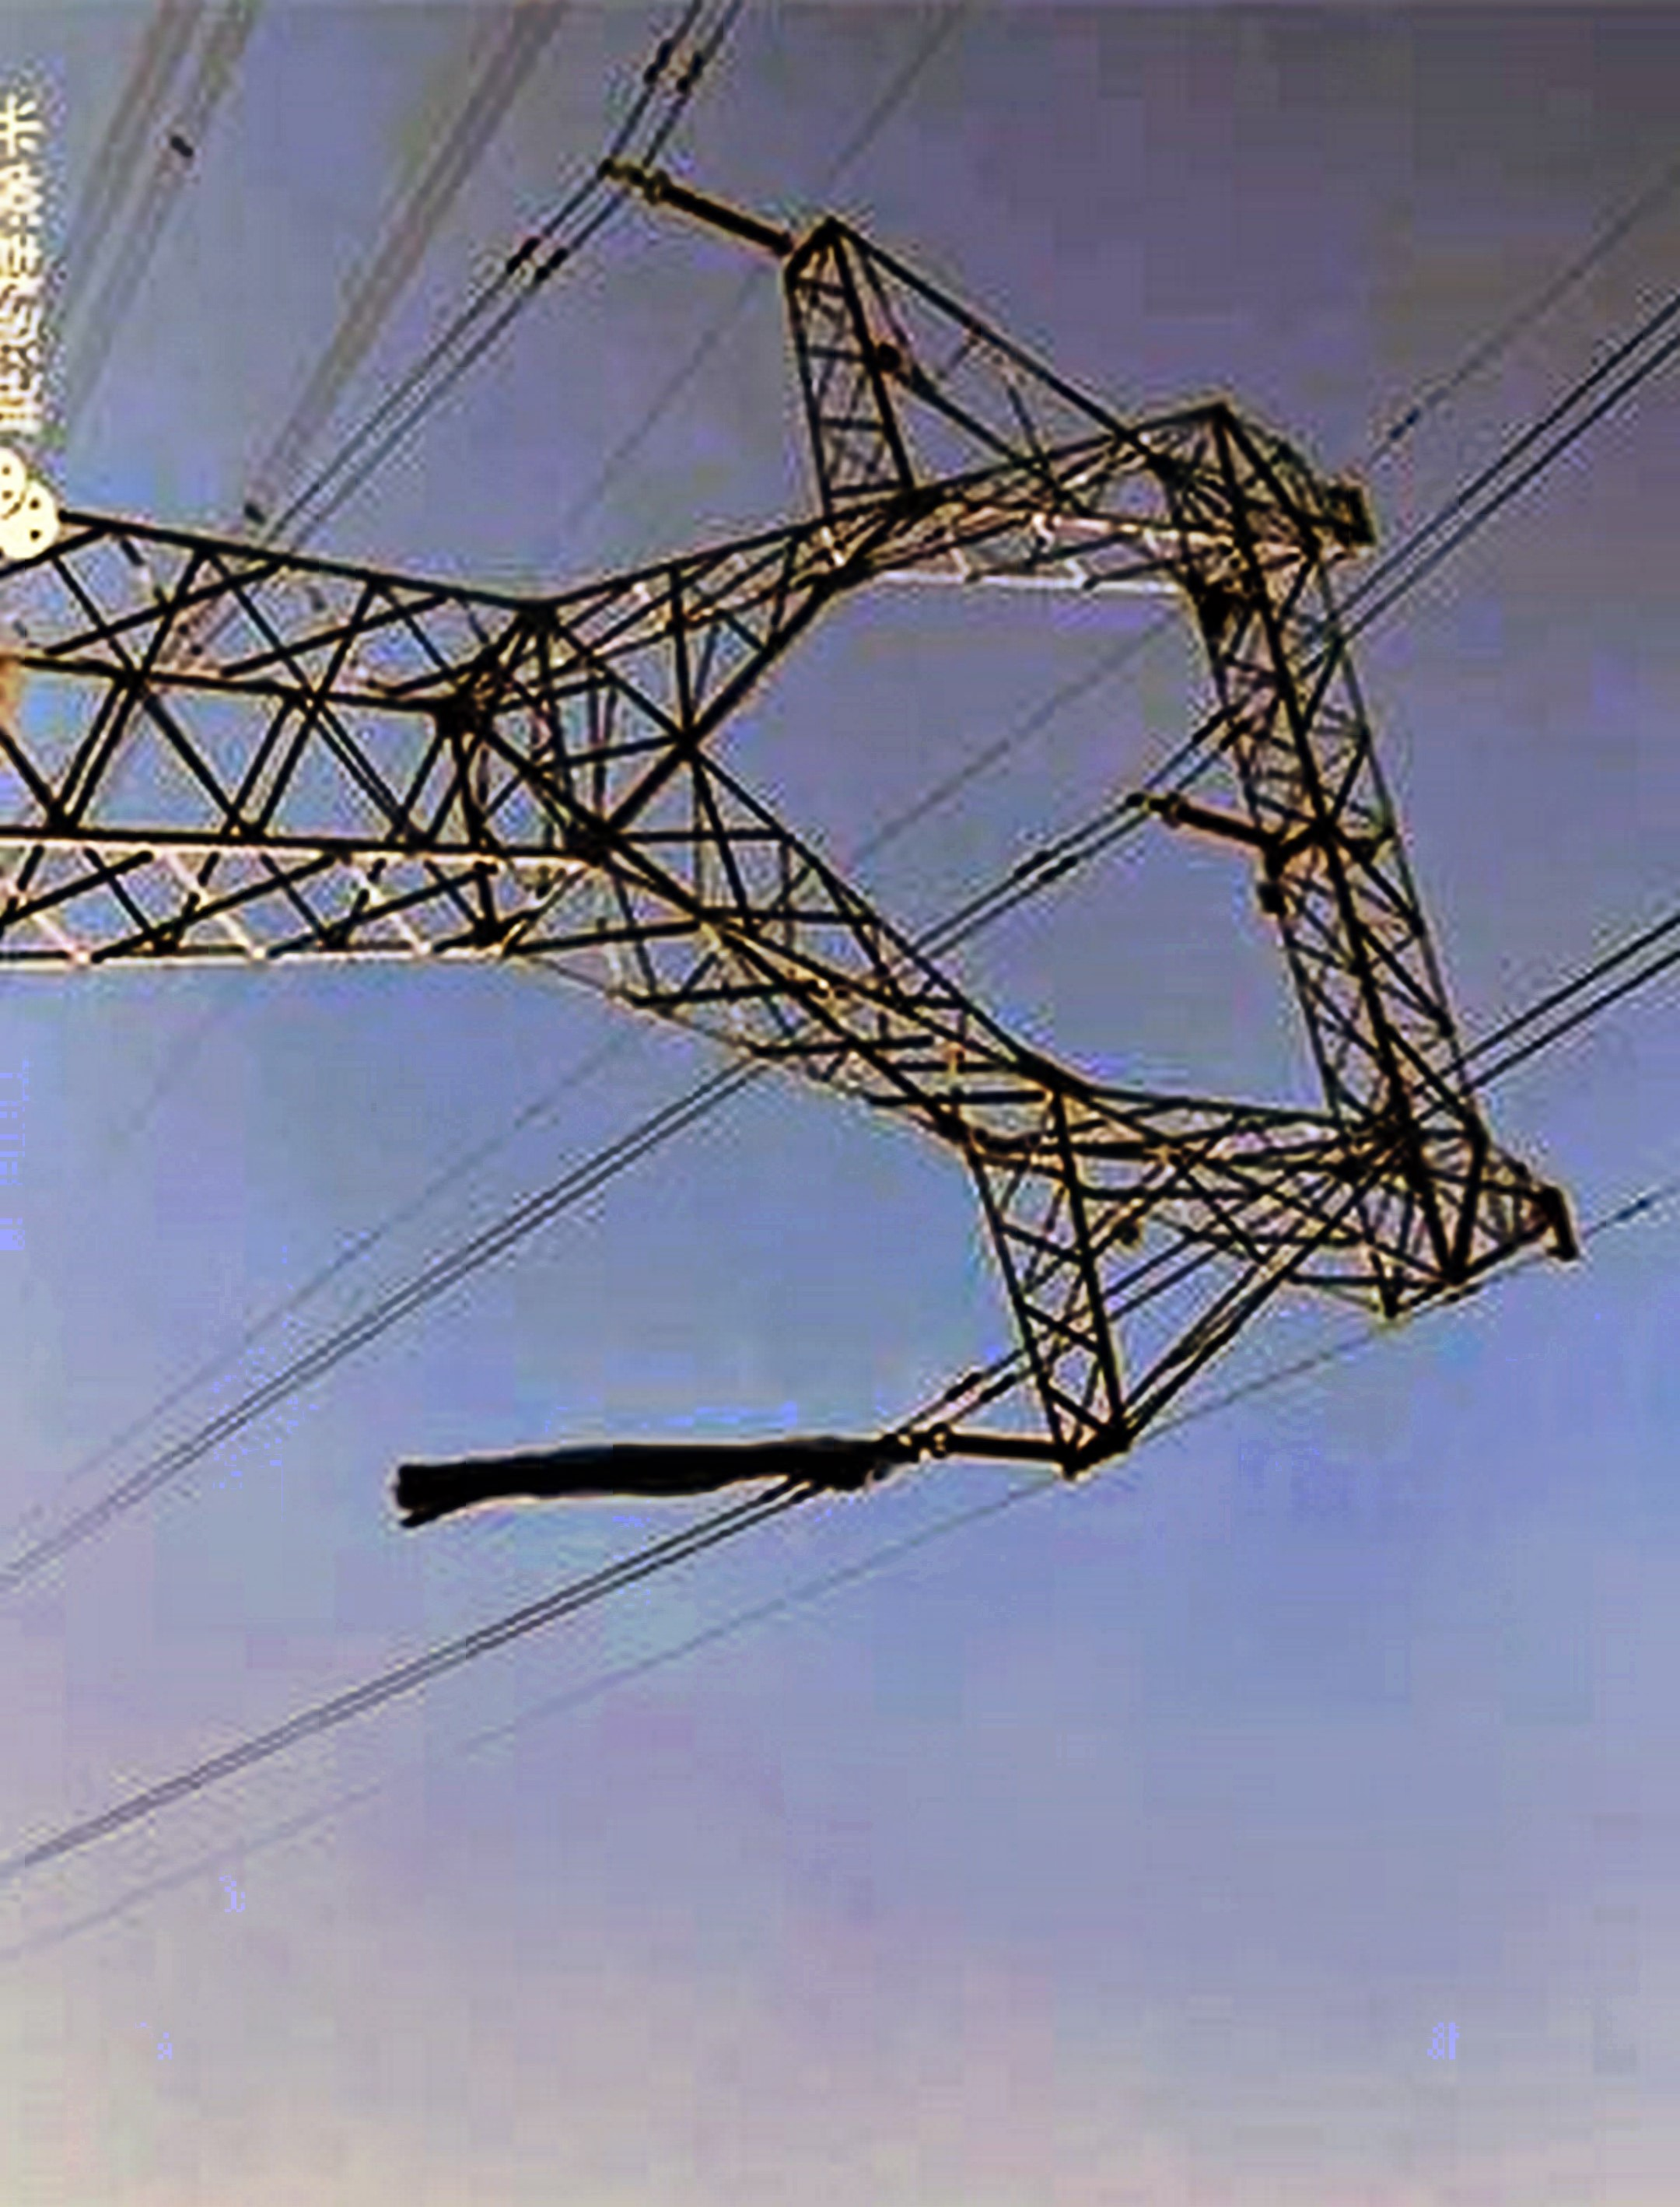wire foreign body: (395, 1408, 934, 1530)
